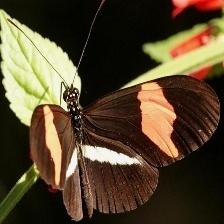butterfly: (30, 76, 221, 220)
